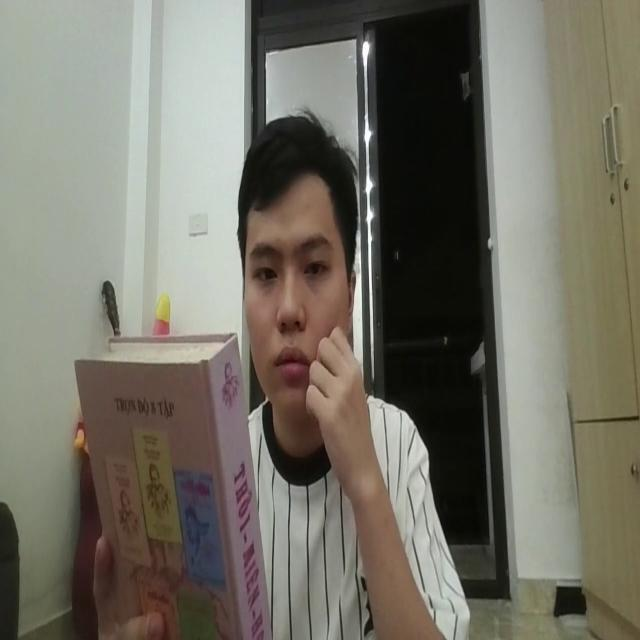book: (76, 317, 270, 640)
student: (227, 106, 472, 640)
